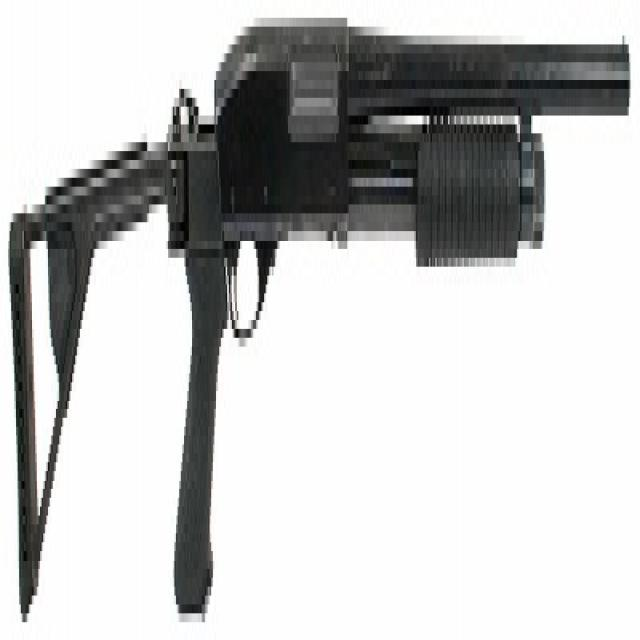rifle: (2, 1, 635, 640)
